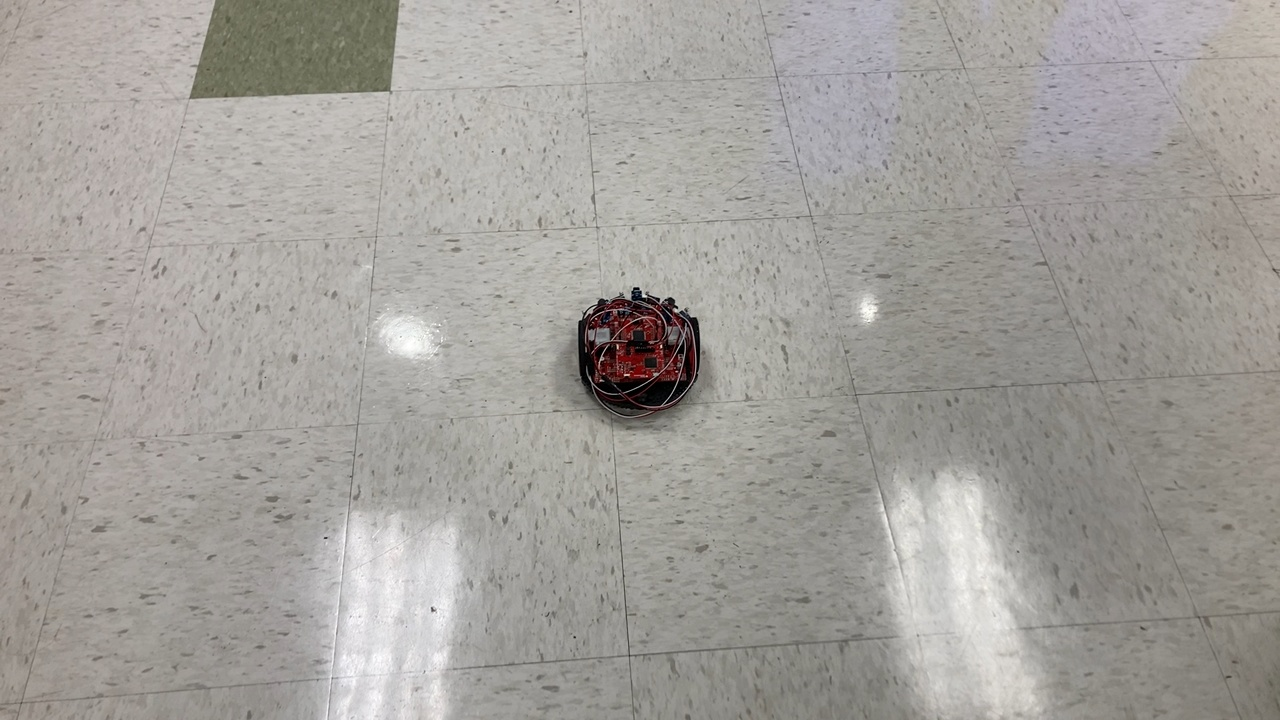robot: (573, 285, 705, 424)
